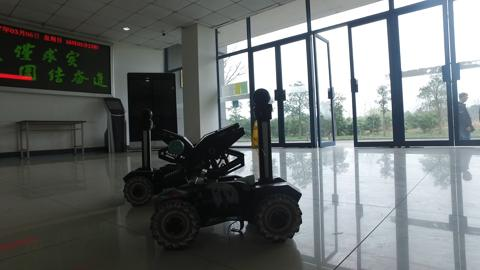chariot: (160, 89, 304, 244), (119, 104, 202, 204)
